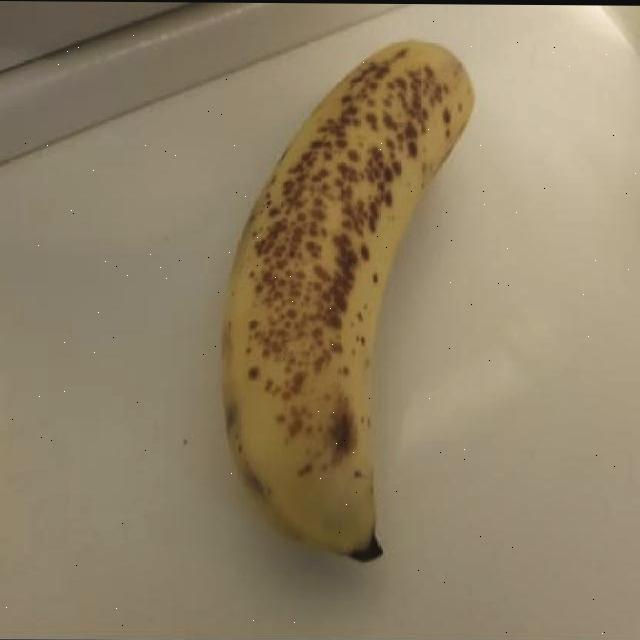banana: (211, 30, 478, 572)
